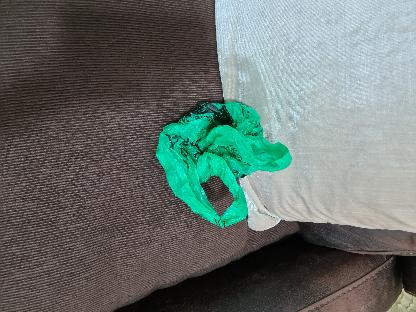Plastic Bag: (158, 100, 290, 228)
